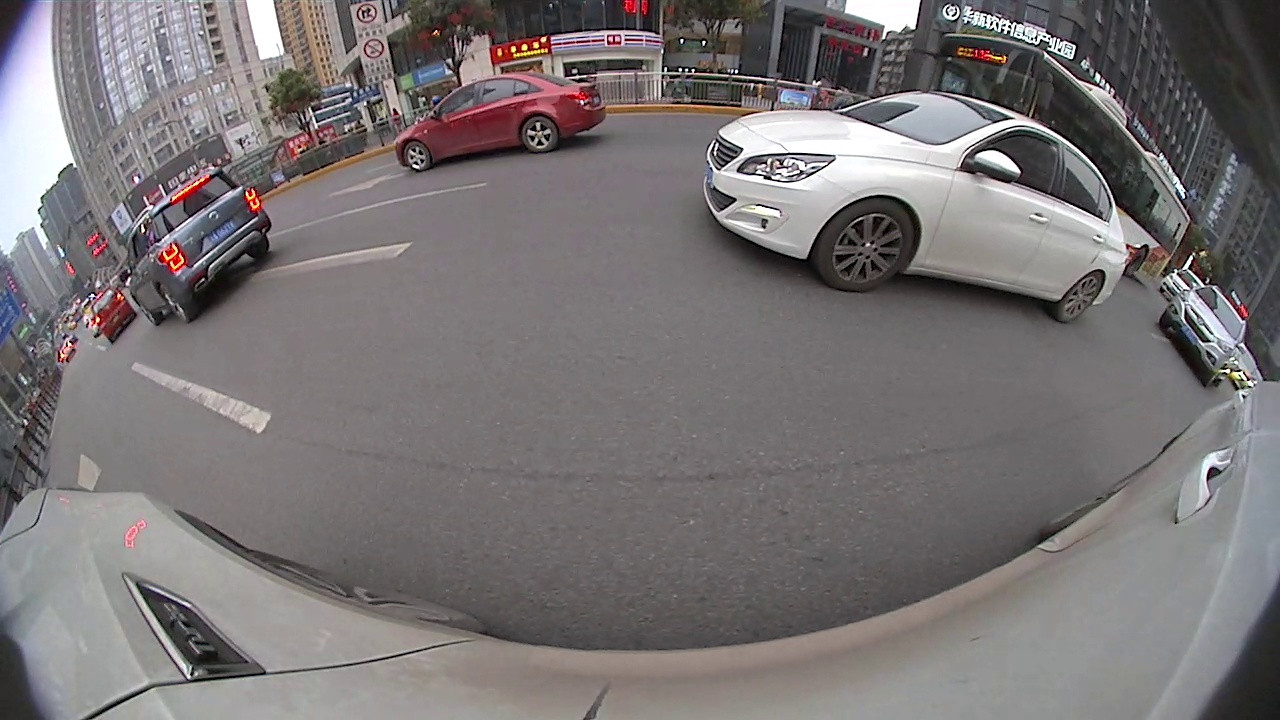bus: (926, 28, 1193, 289)
car: (703, 87, 1130, 326), (119, 164, 274, 329), (392, 70, 608, 174), (1156, 282, 1248, 388)
front: (820, 198, 916, 294), (401, 140, 429, 172)
rear: (1054, 270, 1103, 326), (154, 281, 193, 325), (521, 113, 558, 157), (1123, 247, 1148, 278)
